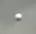Squash-Ball: (1, 0, 36, 34)
